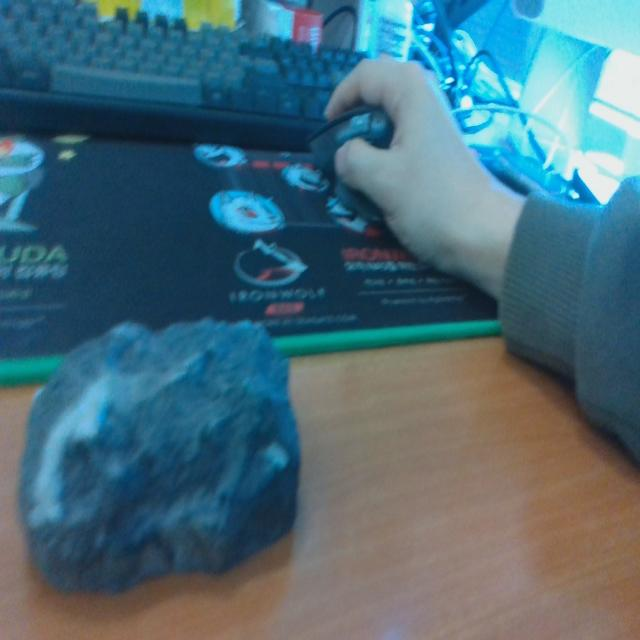stone: (15, 315, 302, 600)
